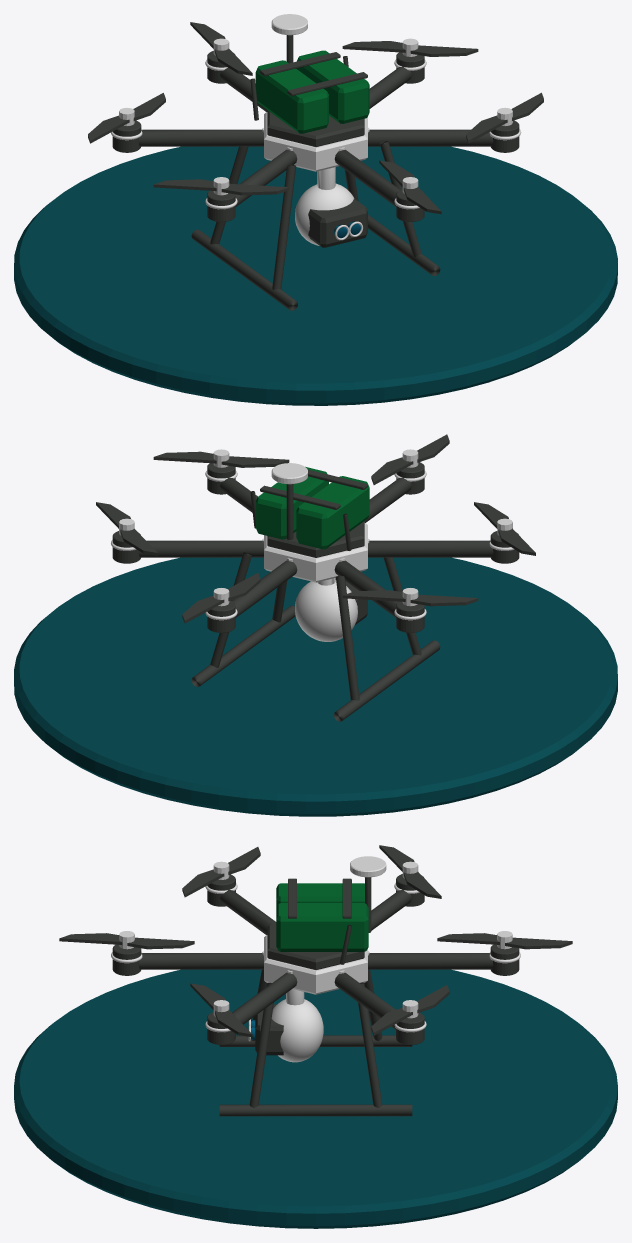
File: inspired-flight-if1200a.glb
3 views of the same model, one above another, from view 1: azimuth 30°, elevation 25°; view 2: azimuth 150°, elevation 25°; view 3: azimuth 270°, elevation 25° (orthographic).
Visible parts, largest first — view 1: pedestal, body; view 2: pedestal, body; view 3: pedestal, body.
Boxes of the visible parts, left/top/right/bottom form: pedestal: left=14, top=146, right=617, bottom=405; body: left=88, top=14, right=543, bottom=310; pedestal: left=14, top=557, right=617, bottom=816; body: left=96, top=434, right=535, bottom=721; pedestal: left=14, top=969, right=617, bottom=1228; body: left=59, top=845, right=572, bottom=1116.
Bounding box in the file's own units: 4.4 × 1.93 × 4.4.
